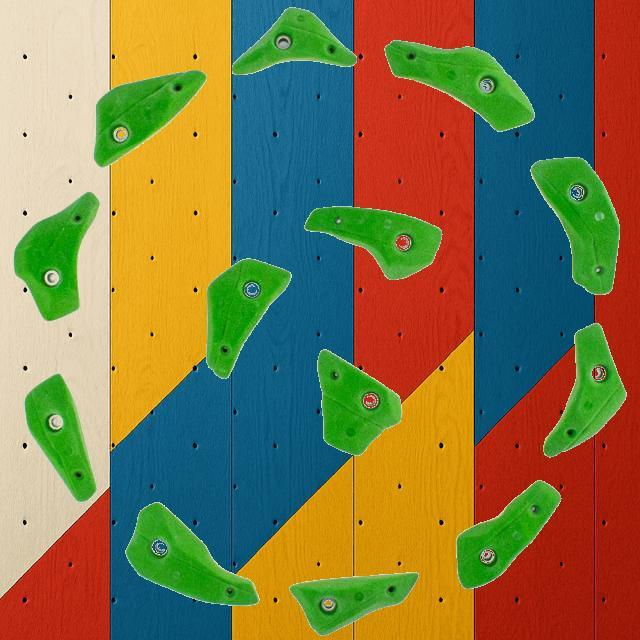Crimp: (384, 38, 534, 132), (125, 501, 259, 605), (530, 156, 620, 294), (12, 191, 100, 321), (456, 479, 560, 588), (542, 322, 626, 456), (94, 68, 206, 168), (304, 204, 442, 280), (206, 258, 290, 378), (24, 372, 96, 502), (316, 348, 402, 456), (231, 5, 357, 74), (290, 571, 418, 635)
